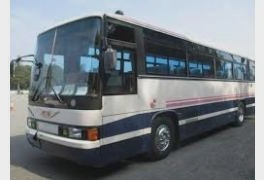bus: (26, 12, 254, 166)
